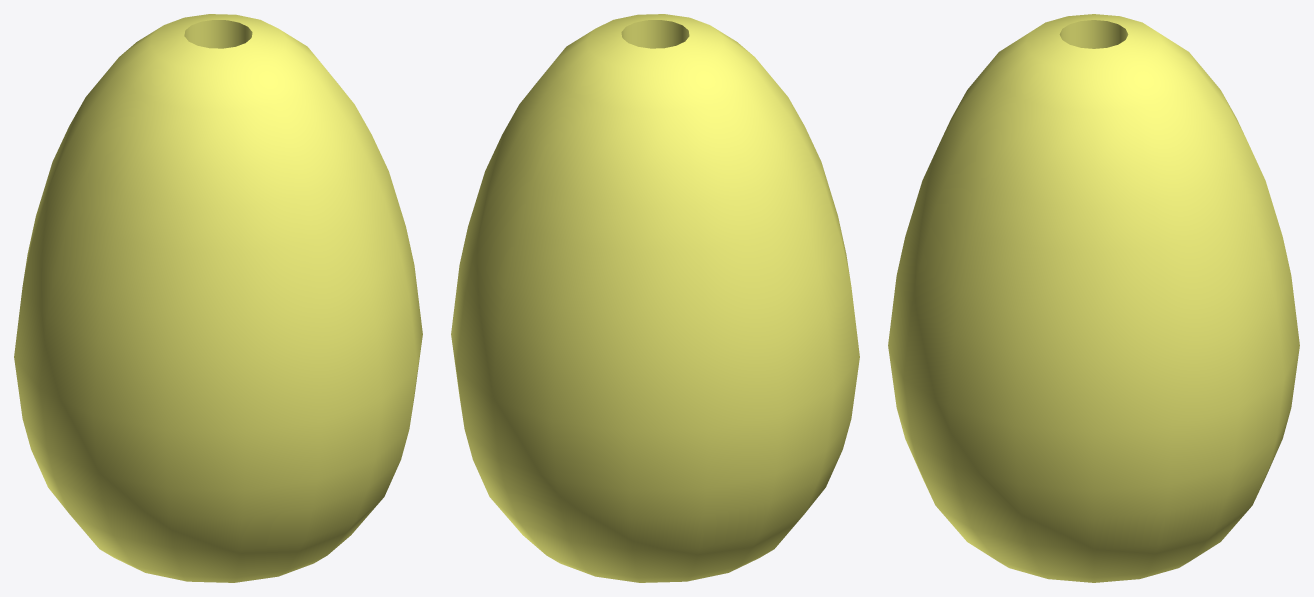
3 renders of one model, left to right at view 1: azimuth 30°, elevation 25°; view 2: azimuth 150°, elevation 25°; view 3: azimuth 270°, elevation 25°, orthographic.
Visible parts, largest first — view 1: 24946.dat; view 2: 24946.dat; view 3: 24946.dat.
Part boxes in pixels (x1,y1,x2,y2): 24946.dat: (14, 14, 422, 582); 24946.dat: (451, 14, 859, 582); 24946.dat: (888, 14, 1299, 582).
Bounding box in the file's own units: 0.0096 × 0.0128 × 0.0096.
